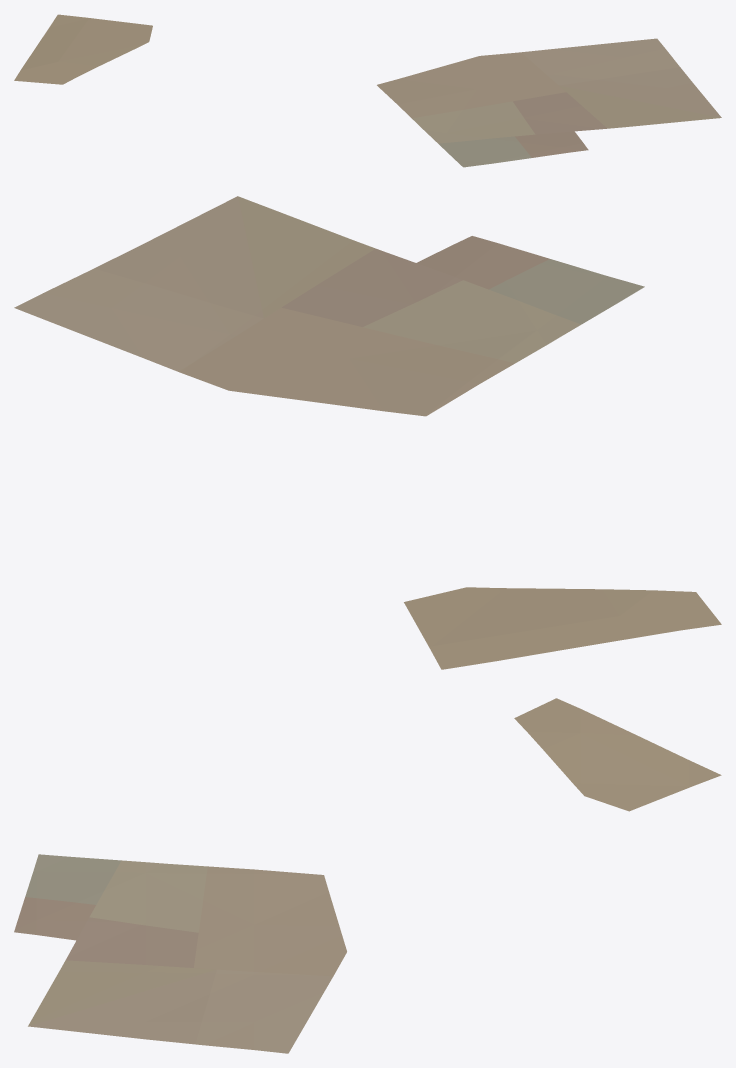
Rendered from farm_4_11_soil.glb.
3 renders of one model, top to bottom at view 1: azimuth 30°, elevation 25°; view 2: azimuth 150°, elevation 25°; view 3: azimuth 270°, elevation 25°, orthographic. The views are drawn at different scales.
Parts seen in each view (by area): view 1: geometry_0; view 2: geometry_0; view 3: geometry_0.
Boxes of the visible parts, left/top/right/bottom form: geometry_0: left=14, top=14, right=721, bottom=167; geometry_0: left=14, top=196, right=721, bottom=669; geometry_0: left=14, top=698, right=721, bottom=1053.
Size of the model in its own units: 590 by 13.82 by 521.
